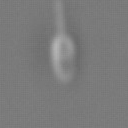normal: (49, 1, 66, 33)
